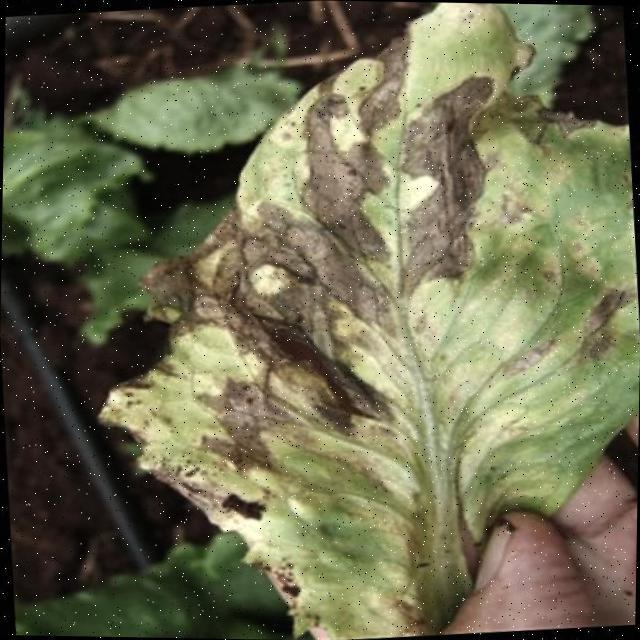Bacterial: (214, 188, 495, 455)
